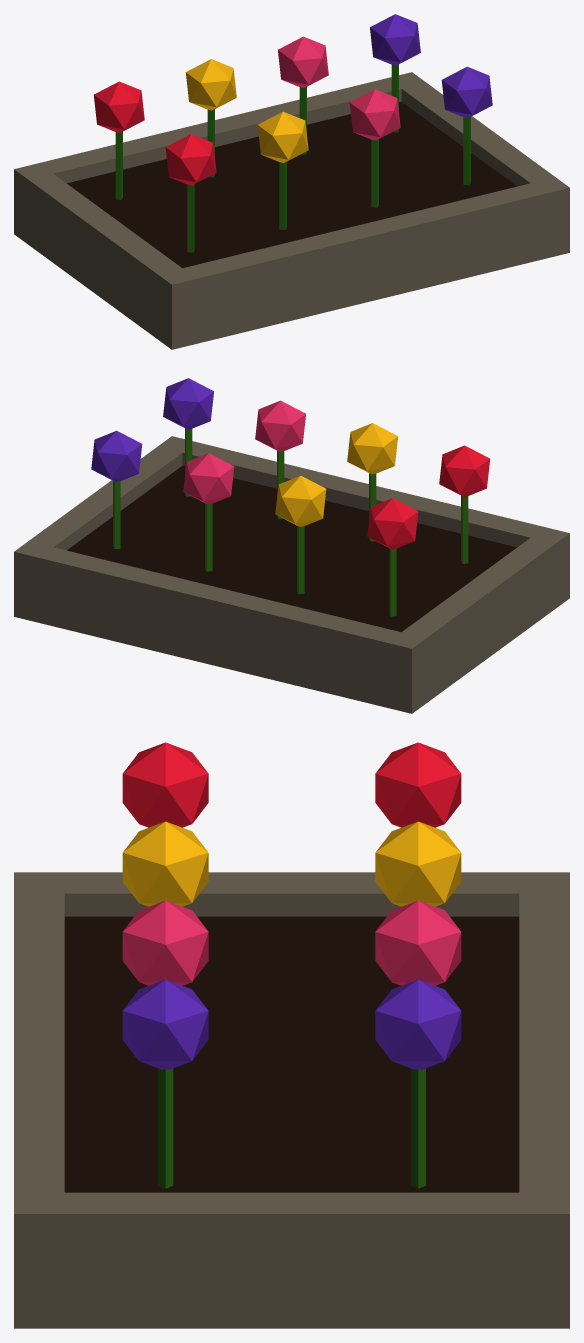
The model's file is flower_bed.obj.
3 views of the same model, one above another, from view 1: azimuth 30°, elevation 25°; view 2: azimuth 150°, elevation 25°; view 3: azimuth 270°, elevation 25° (orthographic). The views are drawn at different scales.
Visible parts, largest first — view 1: flower_bed; view 2: flower_bed; view 3: flower_bed.
Part boxes in pixels (box(x1,y1,x2,y2)): flower_bed: box(14, 14, 569, 349); flower_bed: box(14, 378, 569, 713); flower_bed: box(14, 742, 569, 1328).
Size of the model in its own units: 1.6 by 0.65 by 1.1.
